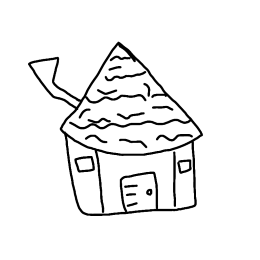chimney: (17, 53, 86, 111)
door: (116, 171, 164, 214)
open_window: (172, 155, 198, 178), (70, 152, 97, 174)
roof: (43, 40, 211, 158)
wall: (53, 139, 210, 224)
